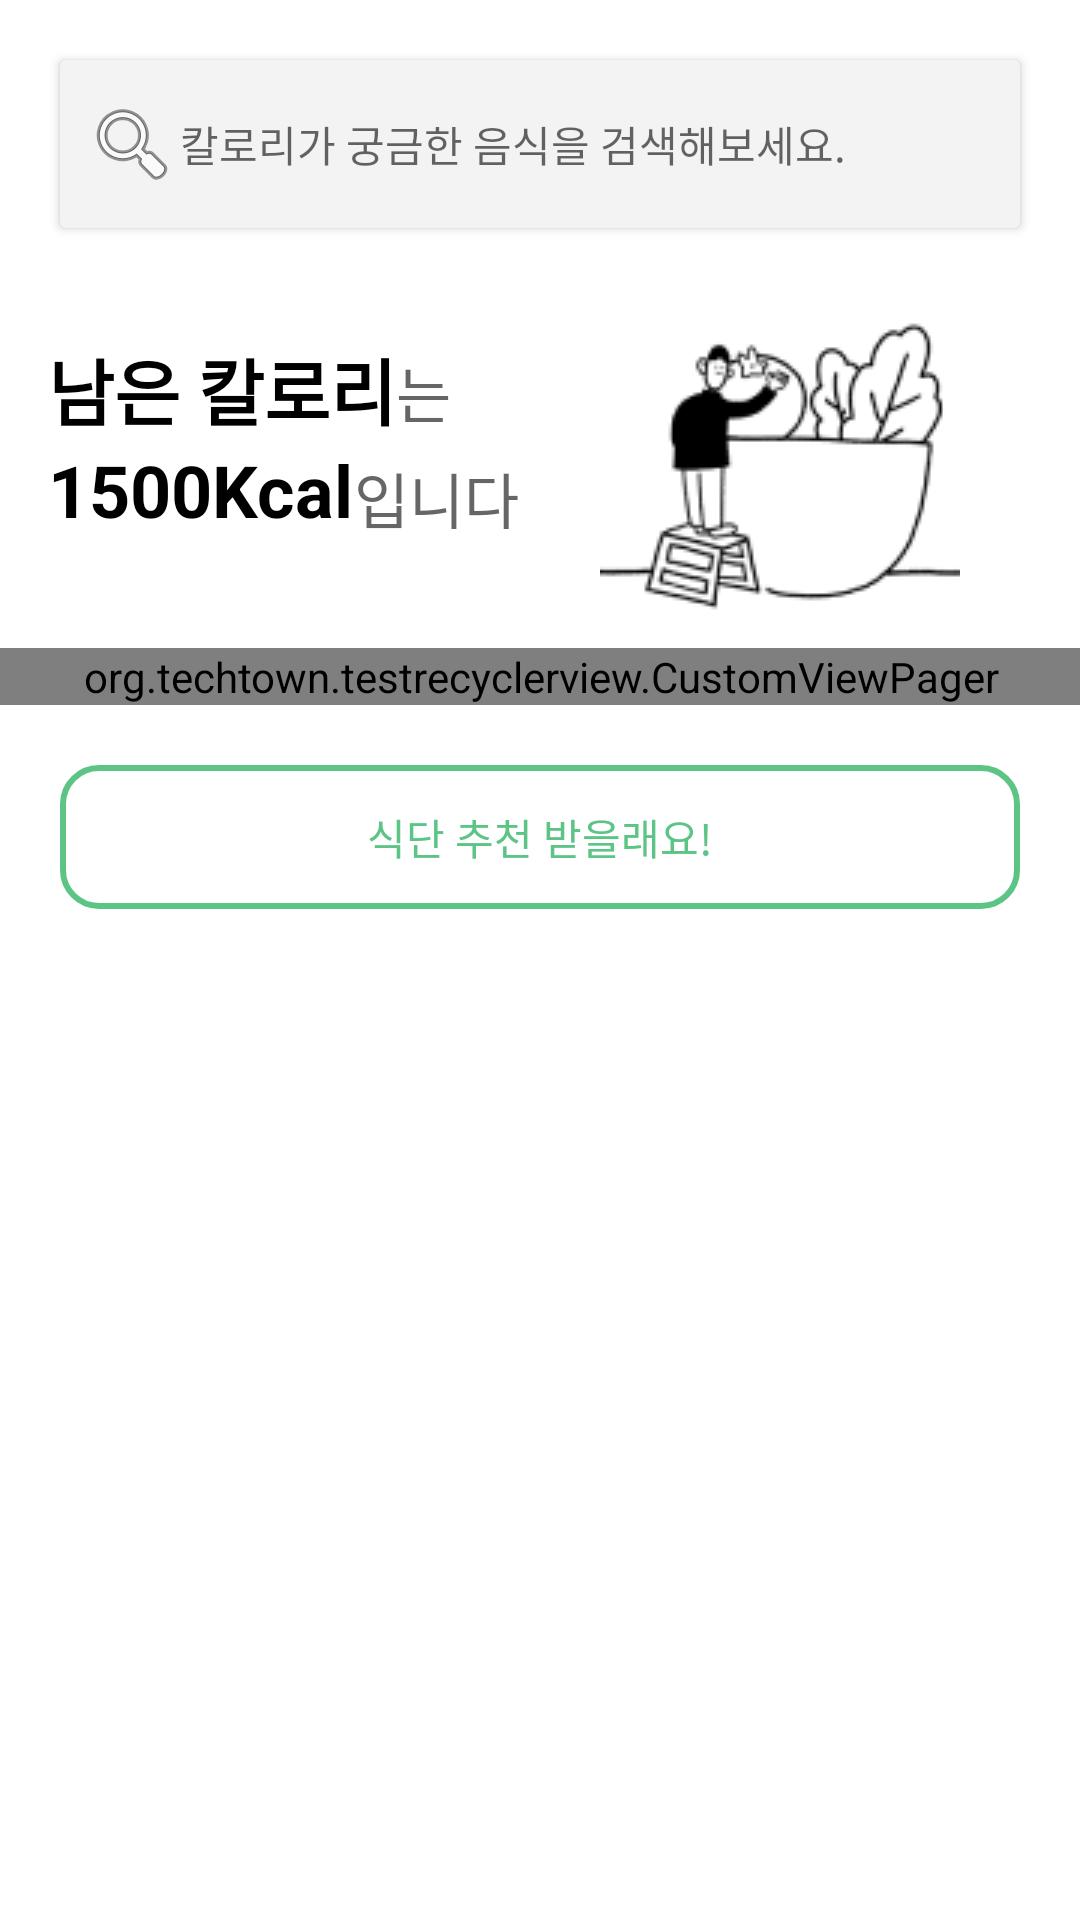

Icons on this 1080×1920 Android screen, each with the point to tap as point (x, y):
search: point (132, 144)
